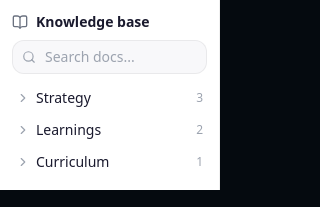
Test: WikiSidebar › filters folders and files by search query
The width and height of the screenshot is (320, 207).
Type "pricing" into the field with placeholder "Search docs...".
click(110, 57); type("pricing")  # box [12,40,207,74]
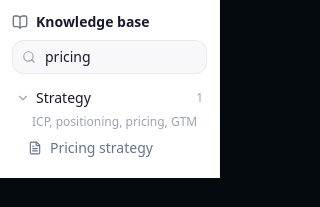
Expected: the text "Pricing strategy" is shown, [50,138,153,158]
